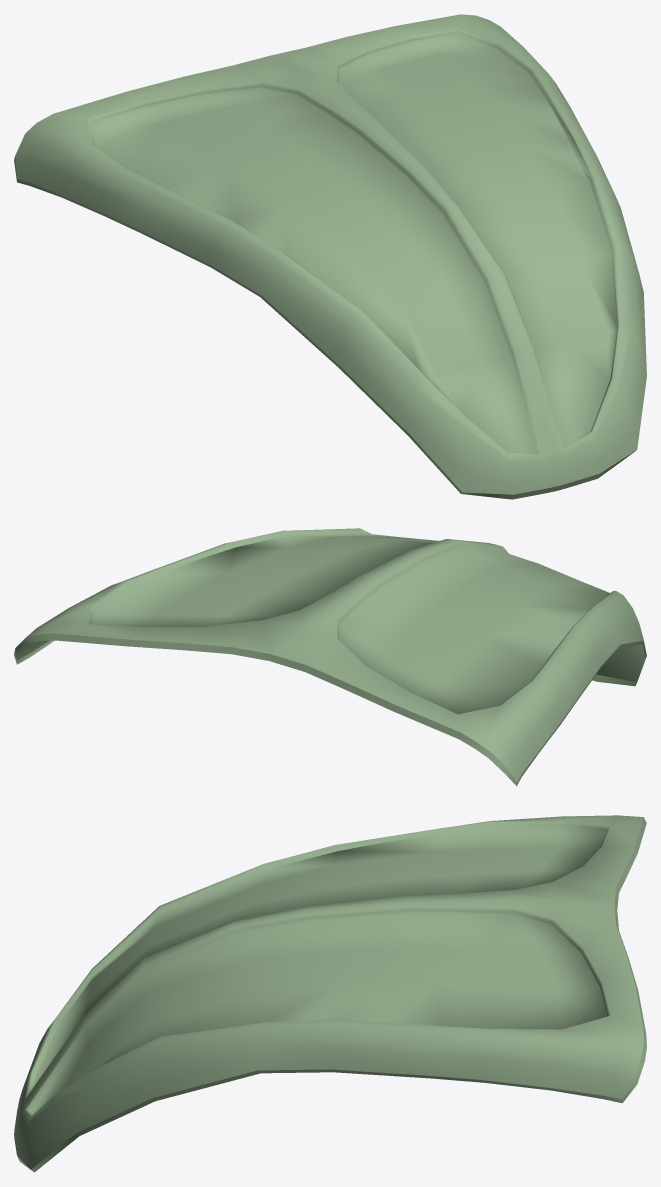
Rendered from Cofre.fbx.
The picture shows the model from 3 angles, top to bottom: view 1: azimuth 30°, elevation 25°; view 2: azimuth 150°, elevation 25°; view 3: azimuth 270°, elevation 25°; orthographic projection. The views are drawn at different scales.
Visible parts, largest first — view 1: Bonnet; view 2: Bonnet; view 3: Bonnet.
Part boxes in pixels (x1,y1,x2,y2): Bonnet: (14,14,646,499); Bonnet: (14,528,646,786); Bonnet: (14,815,646,1172).
Bounding box in the file's own units: 1159 × 515 × 1217.
